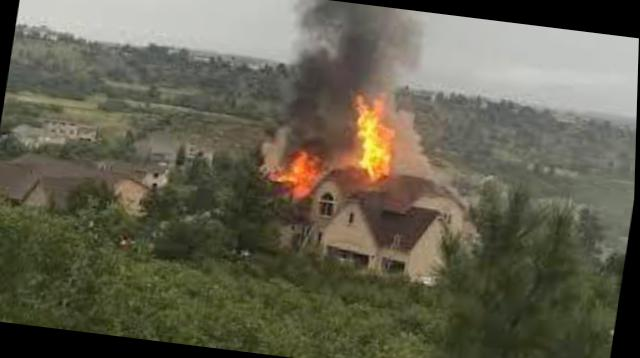fire: (335, 86, 422, 189), (249, 134, 331, 202)
